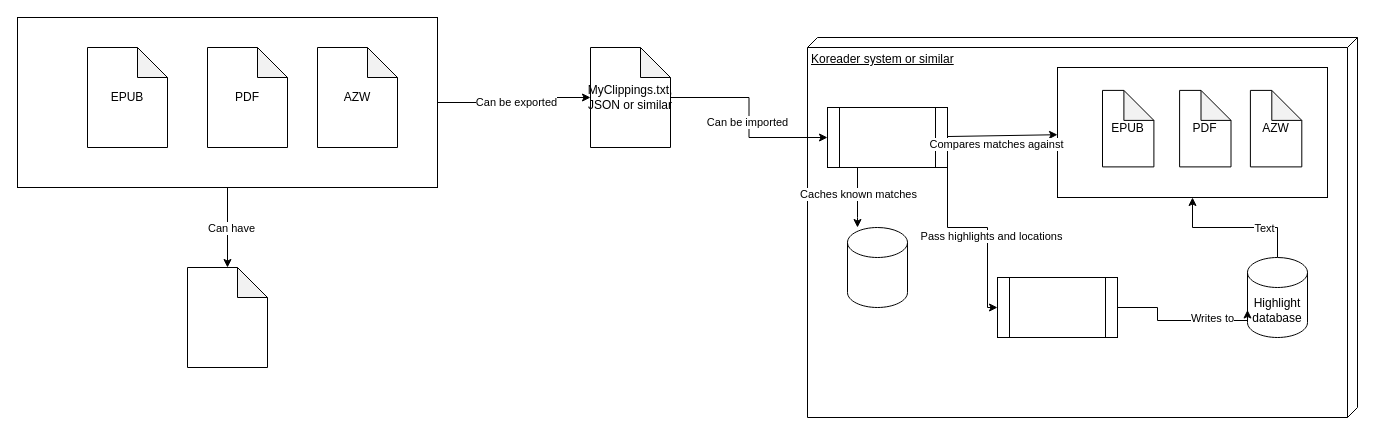
The diagram is 1375 pixels wide and 435 high, and some of its shapes have lost their labels. Each missing label, with the centre of its shape:
"Document management" goes at (x=1057, y=307).
"Notes and highlights" goes at (x=227, y=317).
"Sync/Import plugin" goes at (x=887, y=137).
"Syncing status" goes at (x=877, y=267).
